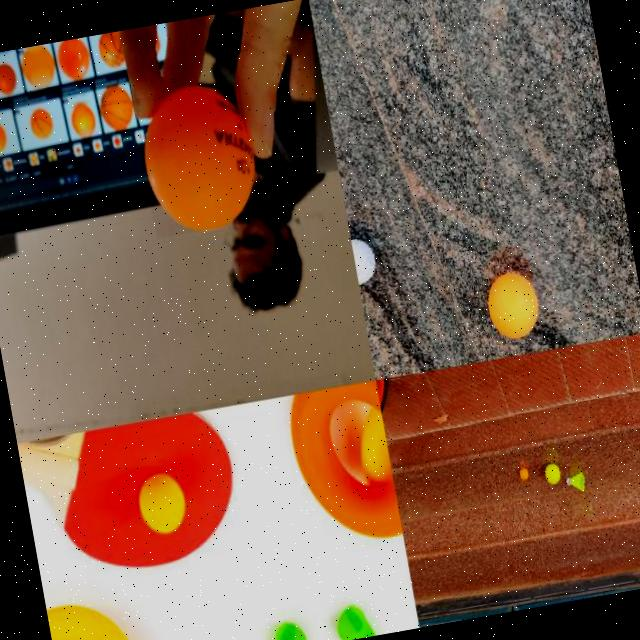ping-pong-ball: (132, 80, 263, 238), (481, 266, 542, 342), (136, 471, 188, 536), (518, 467, 530, 481)
